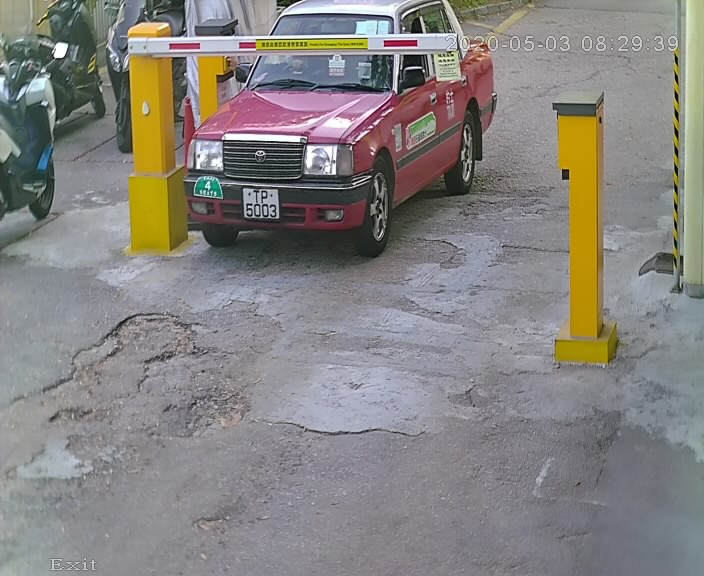taxi: (169, 2, 503, 249)
taxi_mark: (189, 168, 229, 209)
